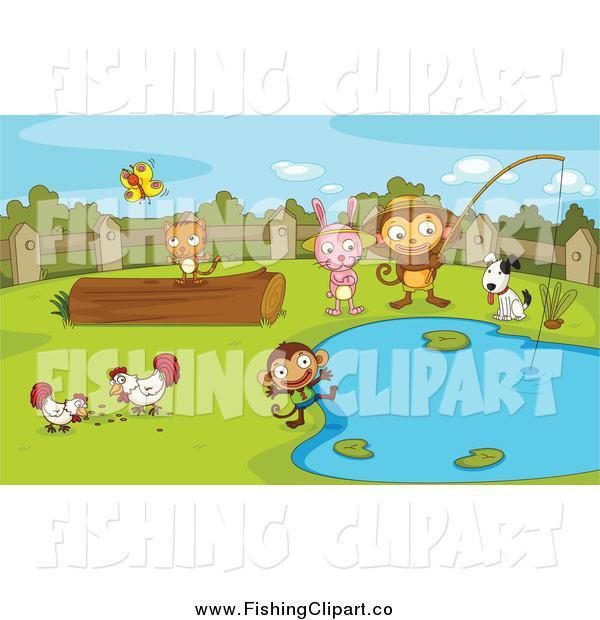bird: (103, 352, 182, 426), (30, 379, 91, 439)
cat: (157, 213, 219, 293)
dog: (473, 250, 531, 329)
